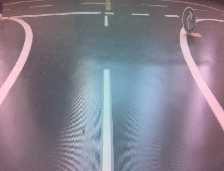turn right ahead sign: (181, 6, 197, 33)
